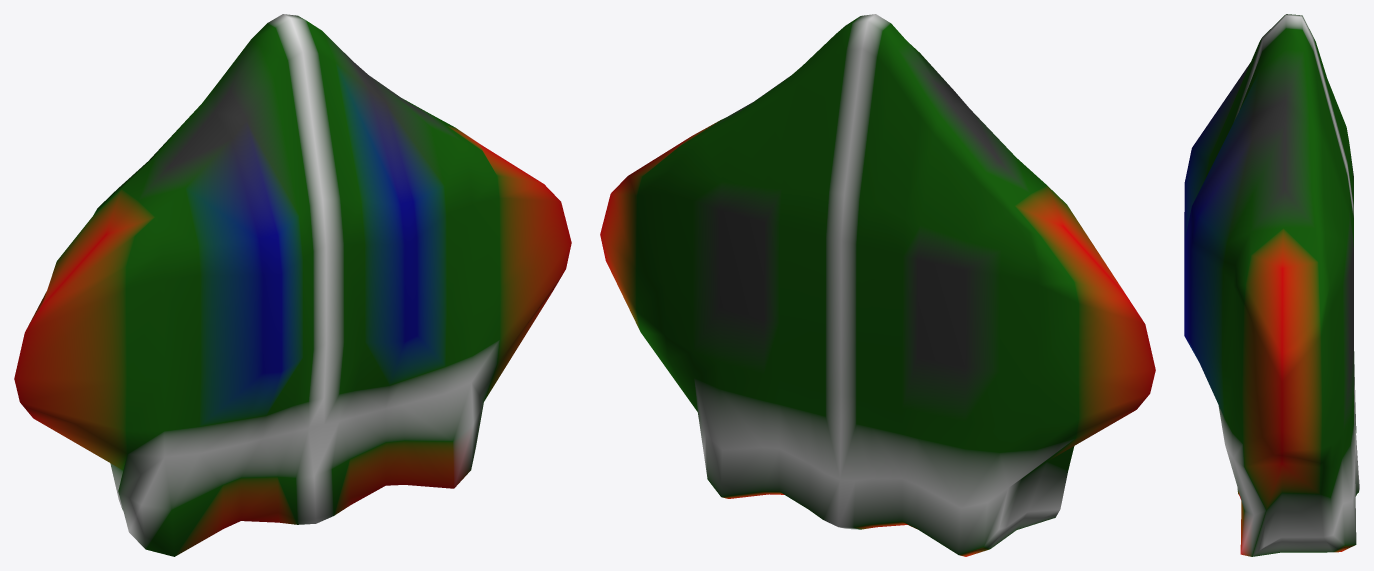
The model's file is spaceship.fbx.
3 views of the same model, side by side, from view 1: azimuth 30°, elevation 25°; view 2: azimuth 150°, elevation 25°; view 3: azimuth 270°, elevation 25° (orthographic). The views are drawn at different scales.
Visible parts, largest first — view 1: pCube1; view 2: pCube1; view 3: pCube1.
Boxes of the visible parts, box(x1,y1,x2,y2) form: pCube1: box(14, 14, 571, 556); pCube1: box(600, 14, 1155, 556); pCube1: box(1184, 14, 1359, 556).
Bounding box in the file's own units: 67.31 × 57.08 × 18.93.
